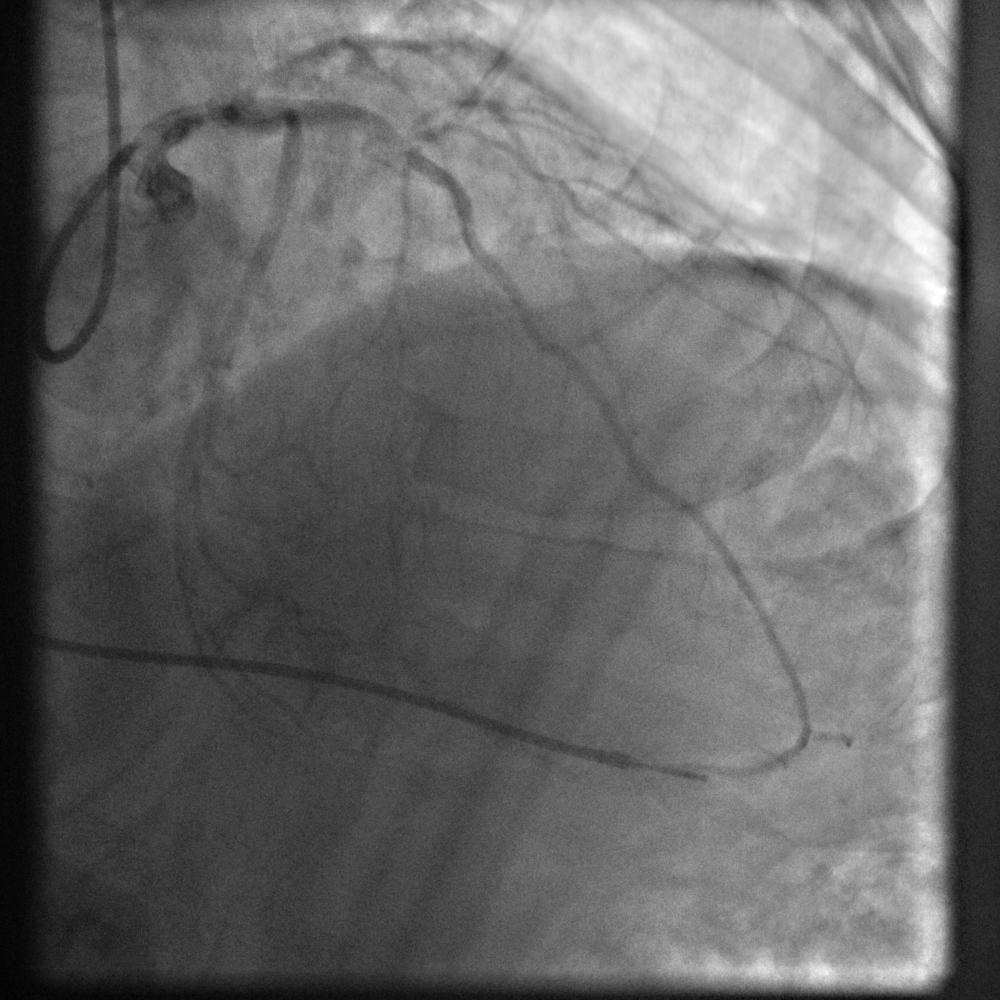Stenosis: (376, 113, 461, 164)
